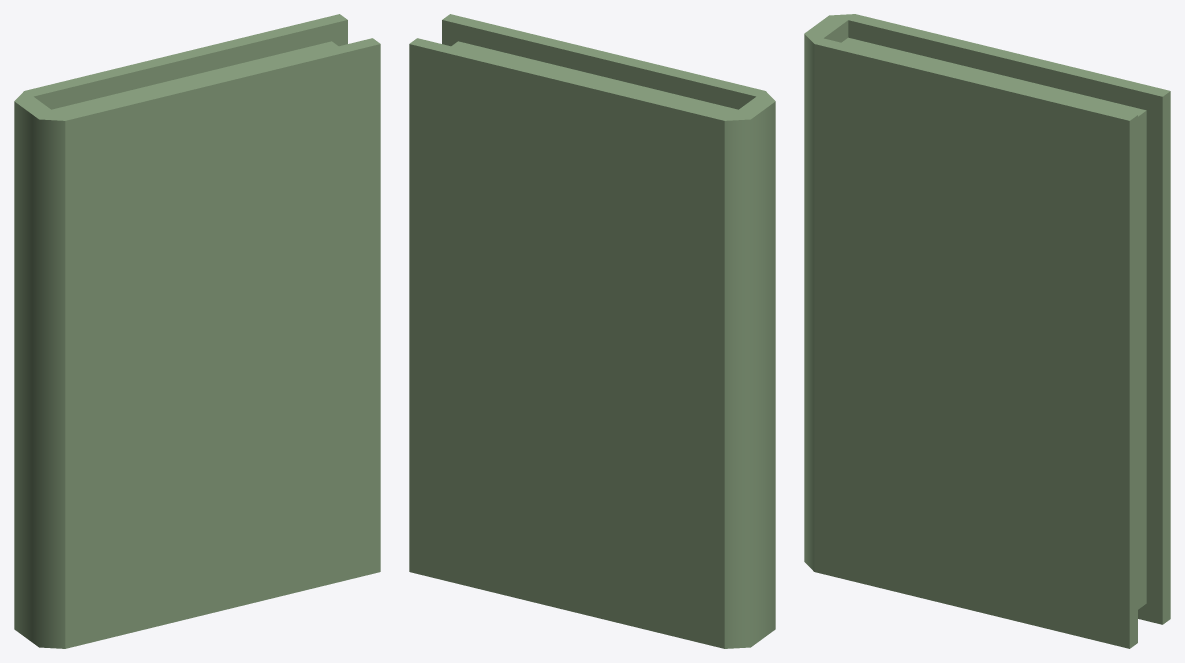
The model's file is Book_V17.fbx.
3 renders of one model, left to right at view 1: azimuth 30°, elevation 25°; view 2: azimuth 150°, elevation 25°; view 3: azimuth 330°, elevation 25°, orthographic.
Parts seen in each view (by area): view 1: Book_V17; view 2: Book_V17; view 3: Book_V17.
Boxes of the visible parts, bbox=[...] form: Book_V17: bbox=[14, 14, 380, 648]; Book_V17: bbox=[409, 14, 775, 648]; Book_V17: bbox=[804, 14, 1170, 648].
Size of the model in its own units: 21.97 by 33.22 by 4.67.
